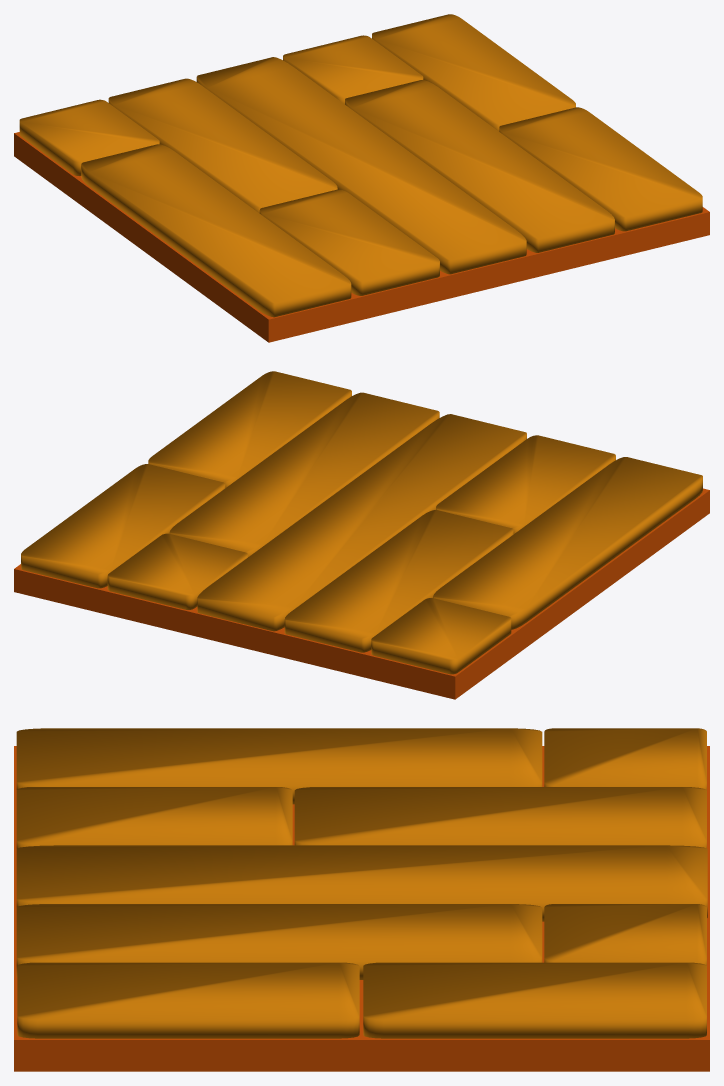
File: Unity HD Render Pipeline (Metallic Standard).fbx
3 views of the same model, one above another, from view 1: azimuth 30°, elevation 25°; view 2: azimuth 150°, elevation 25°; view 3: azimuth 270°, elevation 25° (orthographic). The views are drawn at different scales.
Visible parts, largest first — view 1: Floor (×2); view 2: Floor (×2); view 3: Floor (×2).
Part boxes in pixels (x1=…): Floor (×2): x1=14, y1=14, x2=709, y2=342; Floor (×2): x1=14, y1=371, x2=709, y2=699; Floor (×2): x1=14, y1=728, x2=709, y2=1071.
Size of the model in its own units: 2 by 0.16 by 2.
